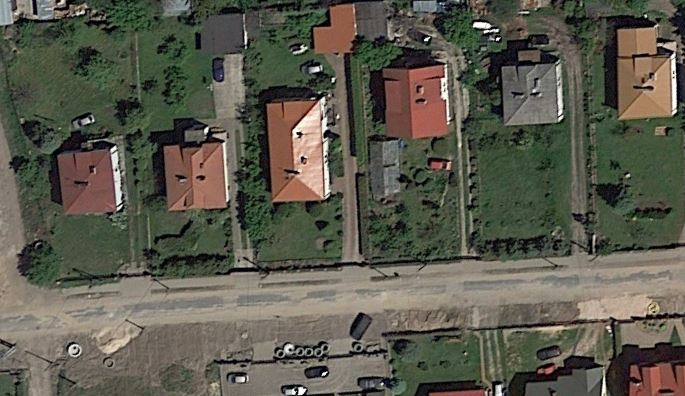family house: (264, 90, 334, 208), (612, 19, 679, 125), (379, 57, 456, 143), (162, 125, 233, 214), (55, 142, 126, 222), (497, 57, 569, 129)
